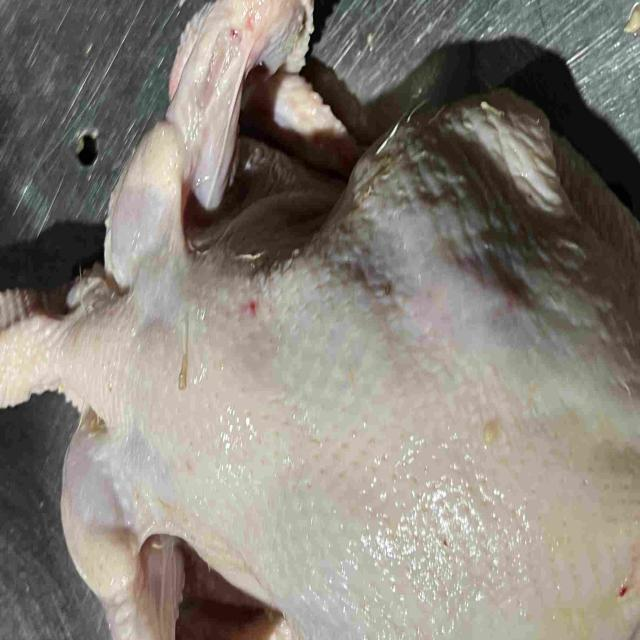back: (136, 242, 640, 640)
leg: (335, 86, 640, 315)
neck: (0, 277, 134, 412)
wing: (101, 0, 358, 263), (61, 421, 294, 640)
